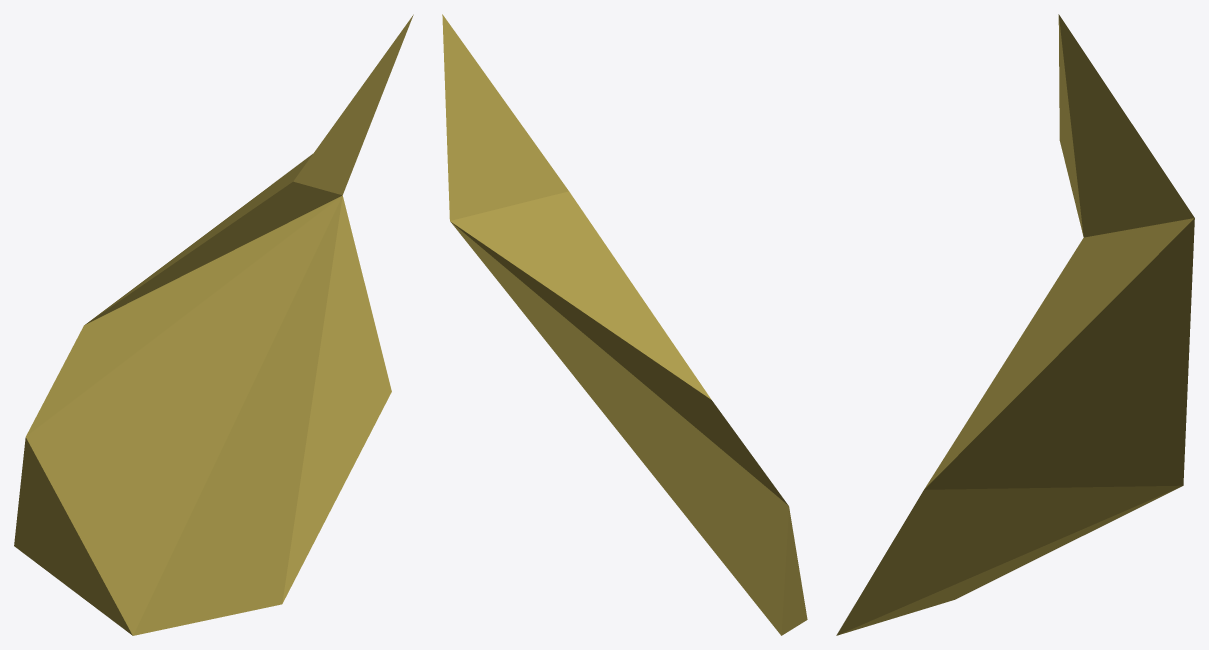
The model's file is Wheat_0.fbx.
3 renders of one model, left to right at view 1: azimuth 30°, elevation 25°; view 2: azimuth 150°, elevation 25°; view 3: azimuth 270°, elevation 25°, orthographic. The views are drawn at different scales.
Visible parts, largest first — view 1: Wheat_0; view 2: Wheat_0; view 3: Wheat_0.
Boxes of the visible parts, x1,y1,x2,y2 form: Wheat_0: (14,14,413,635); Wheat_0: (442,14,807,635); Wheat_0: (836,14,1194,635).
Bounding box in the file's own units: 14.87 × 20.56 × 8.07.
